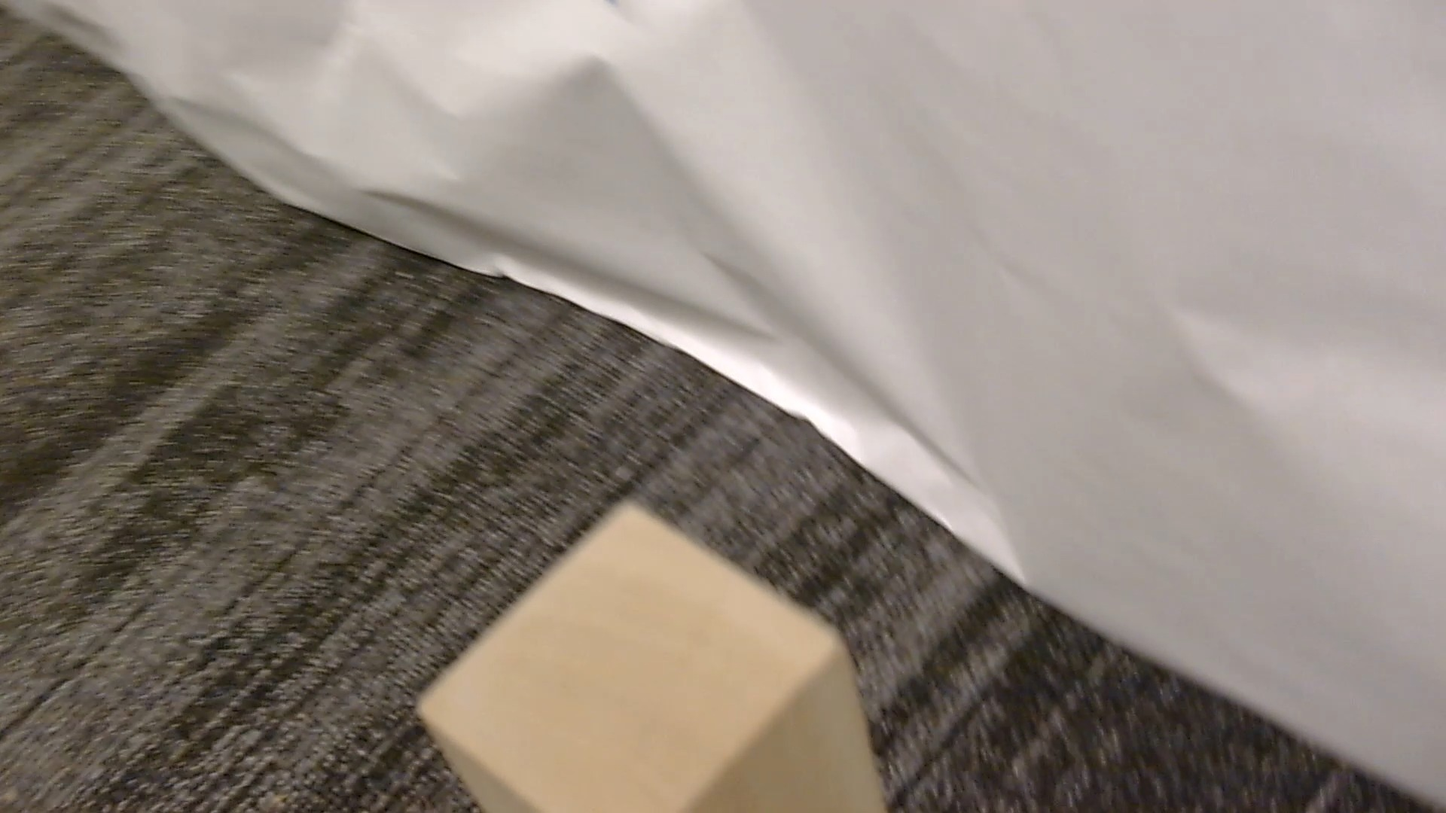Wooden Block: (418, 504, 886, 812)
